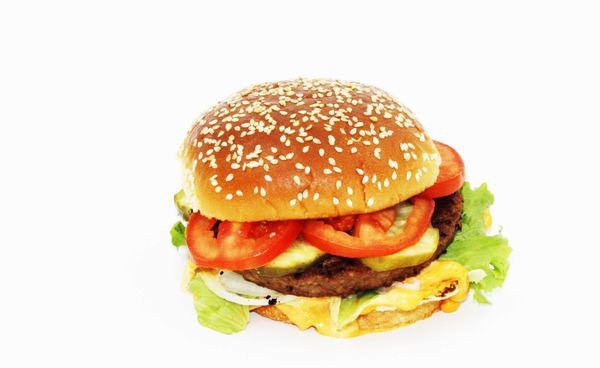soup: (173, 75, 516, 342)
